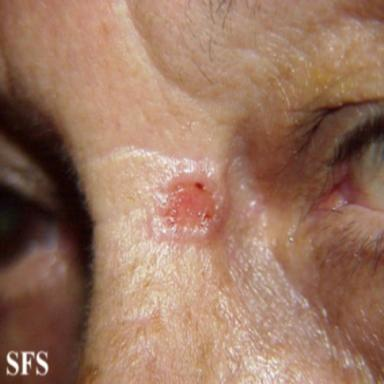basal-cell-carcinoma: (148, 162, 226, 241)
